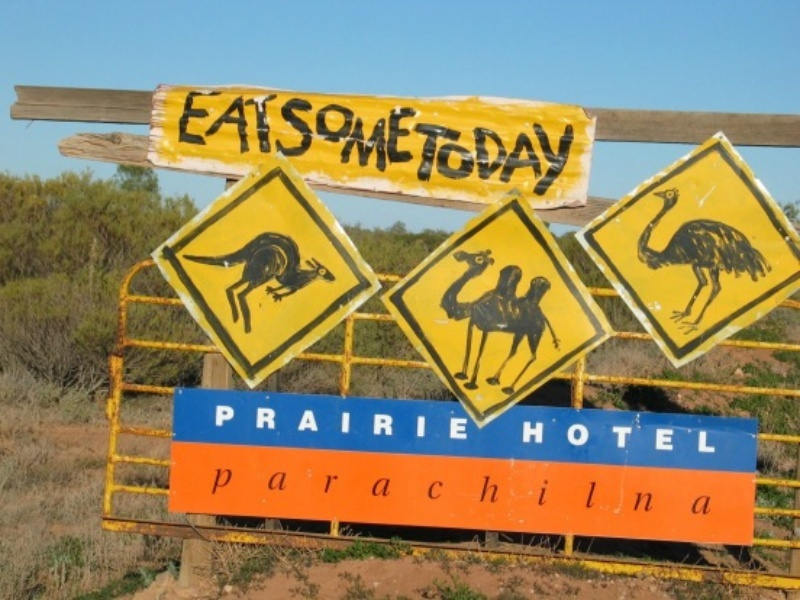text: (193, 86, 208, 201), (209, 86, 224, 201), (225, 86, 240, 201), (241, 86, 256, 201), (257, 86, 272, 201), (273, 86, 288, 201), (289, 86, 304, 201), (305, 86, 320, 201), (321, 86, 336, 201), (337, 86, 352, 201), (353, 86, 368, 201), (369, 86, 384, 201), (385, 86, 400, 201), (401, 86, 416, 201), (417, 86, 432, 201), (433, 86, 448, 201), (449, 86, 464, 201), (465, 86, 480, 201), (481, 86, 496, 201), (497, 86, 512, 201), (513, 86, 528, 201), (529, 86, 544, 201), (545, 86, 560, 201), (561, 86, 576, 201), (225, 463, 240, 516), (241, 463, 256, 516), (257, 463, 272, 516), (273, 463, 288, 516), (289, 463, 304, 516), (305, 463, 320, 516), (321, 463, 336, 516), (337, 463, 352, 516), (353, 463, 368, 516), (369, 463, 384, 516), (385, 463, 400, 516), (401, 463, 416, 516), (417, 463, 432, 516), (433, 463, 448, 516), (449, 463, 464, 516), (465, 463, 480, 516), (481, 463, 496, 516), (497, 463, 512, 516), (513, 463, 528, 516), (529, 463, 544, 516), (545, 463, 560, 516), (561, 463, 576, 516), (577, 463, 592, 516), (593, 463, 608, 516), (609, 463, 624, 516), (625, 463, 640, 516), (641, 463, 656, 516), (657, 463, 672, 516), (673, 463, 688, 516), (689, 463, 704, 516), (705, 463, 719, 516), (186, 86, 192, 201), (577, 86, 583, 201), (225, 403, 240, 441), (241, 403, 256, 441), (257, 403, 272, 441), (273, 403, 288, 441), (289, 403, 304, 441), (305, 403, 320, 441), (321, 403, 336, 441), (337, 403, 352, 441), (353, 403, 368, 441), (369, 403, 384, 441), (385, 403, 400, 441), (401, 403, 416, 441), (417, 403, 432, 441), (433, 403, 448, 441), (449, 403, 464, 441), (214, 463, 224, 516), (529, 421, 544, 453), (545, 421, 560, 453), (561, 421, 576, 453), (577, 421, 592, 453), (593, 421, 608, 453), (609, 421, 624, 453), (625, 421, 640, 453), (641, 421, 656, 453), (657, 421, 672, 453), (673, 421, 688, 453), (689, 421, 704, 453), (705, 421, 716, 453), (215, 403, 224, 441), (522, 421, 528, 453), (465, 403, 469, 441)
